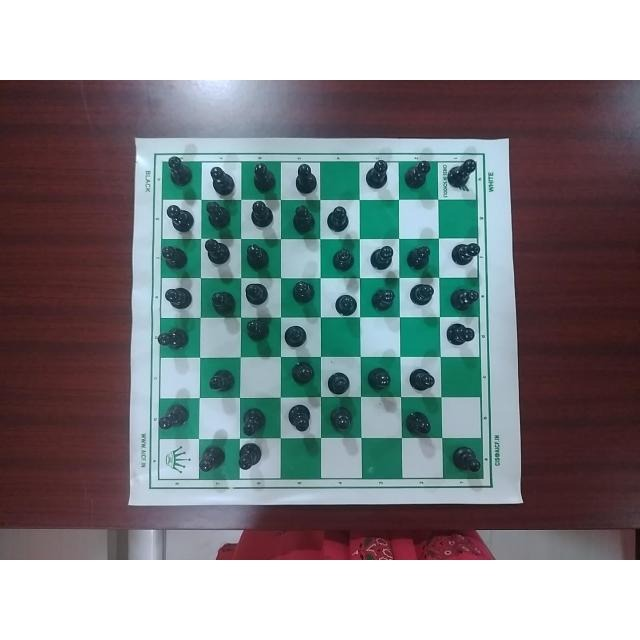black-pawn: (444, 445, 483, 475), (287, 161, 319, 197), (442, 158, 478, 190), (359, 159, 391, 193), (157, 403, 191, 435), (402, 160, 433, 194), (243, 200, 275, 232), (286, 204, 318, 236), (207, 164, 237, 198), (162, 154, 191, 189), (248, 161, 276, 197), (161, 283, 194, 313), (163, 201, 192, 235), (157, 241, 191, 270), (365, 363, 395, 395), (201, 201, 232, 231), (233, 442, 265, 471), (286, 400, 312, 435), (205, 368, 236, 397), (324, 203, 352, 235), (201, 237, 233, 265), (157, 325, 189, 353), (444, 321, 476, 349), (327, 404, 355, 436), (447, 284, 480, 311), (243, 240, 271, 271), (364, 245, 395, 273), (289, 358, 317, 389), (406, 366, 437, 394), (402, 408, 433, 436), (448, 240, 481, 266), (207, 286, 236, 315), (407, 281, 437, 309), (240, 408, 268, 438), (283, 323, 311, 351), (324, 368, 352, 396), (198, 444, 226, 472), (244, 317, 271, 345), (404, 244, 432, 270), (369, 285, 395, 313), (243, 281, 271, 306), (330, 292, 359, 316), (328, 245, 354, 270), (290, 279, 315, 304)
